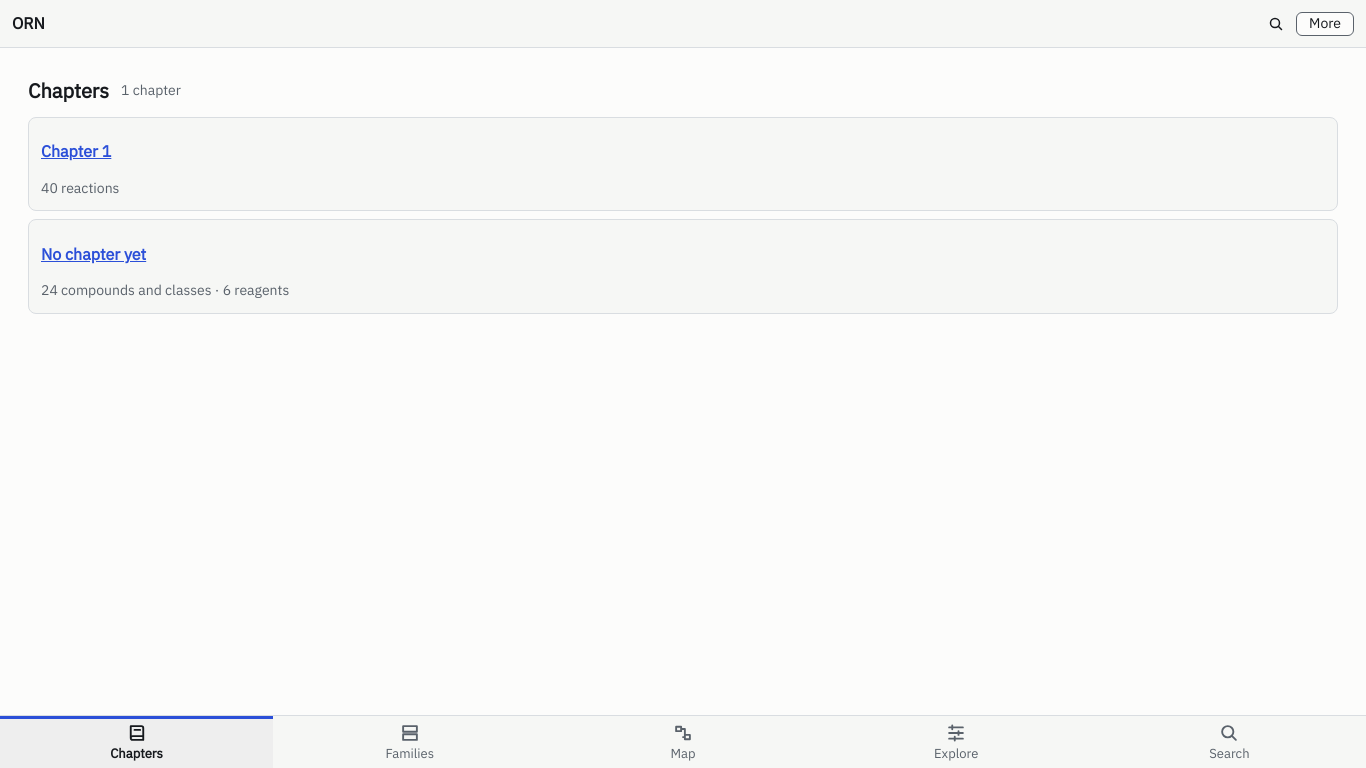
Test case: the phone shell › More holds the File items, Exam scope, Dataset counts, About this preview and Status
Click the button "More": (1325, 24) [1296,12,1354,36]
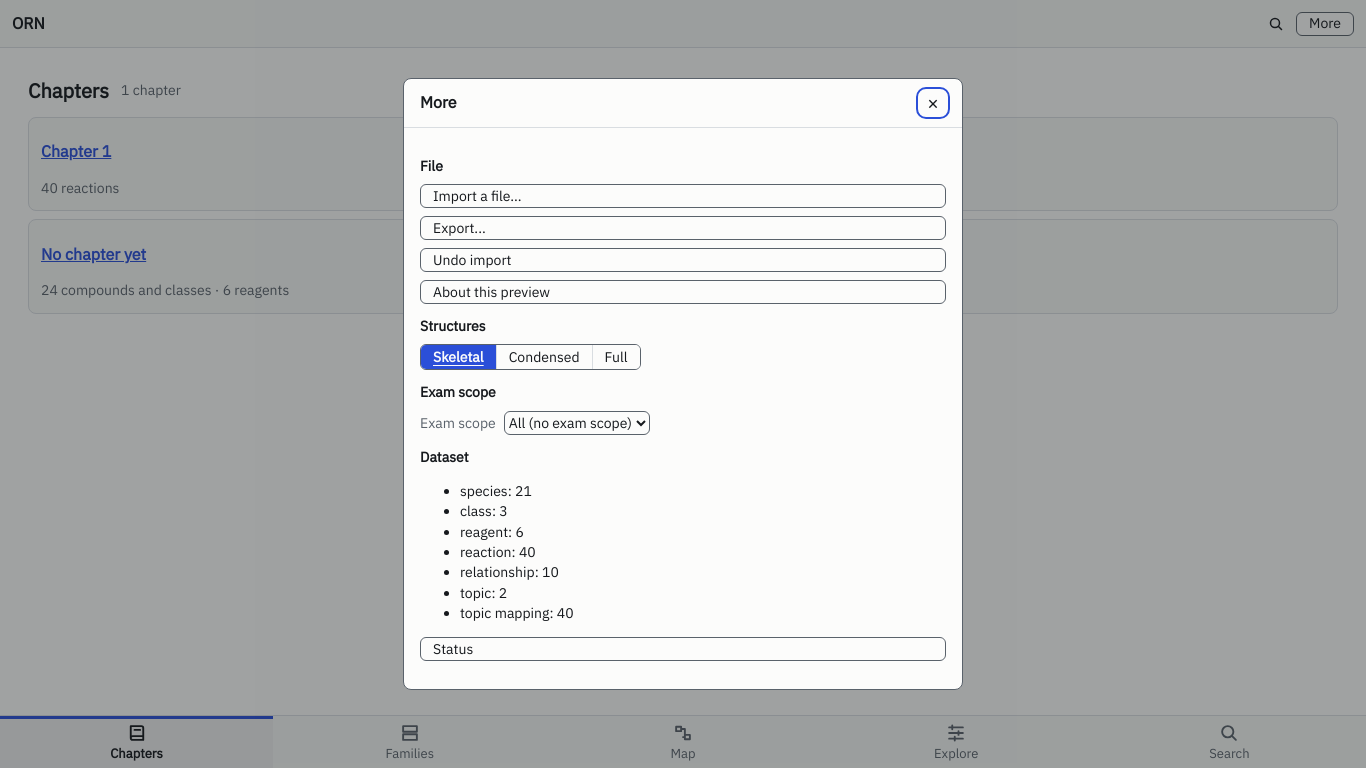
Now the button "Import a file..." is shown, box [420,184,946,208]
Now the button "Export..." is shown, box [420,216,946,240]
Now the button "Undo import" is shown, box [420,248,946,272]
